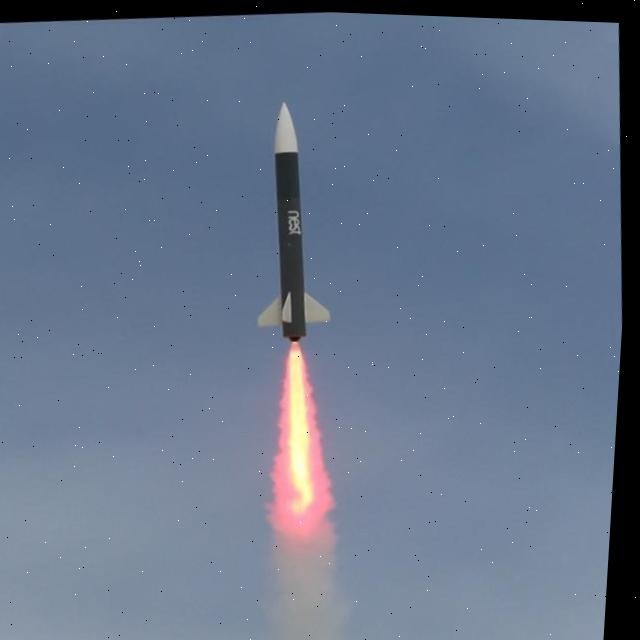missile: (240, 97, 344, 345)
